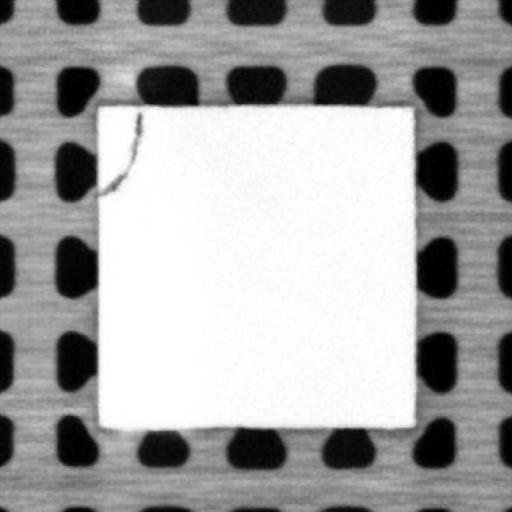DIE_INK: (99, 112, 142, 195)
